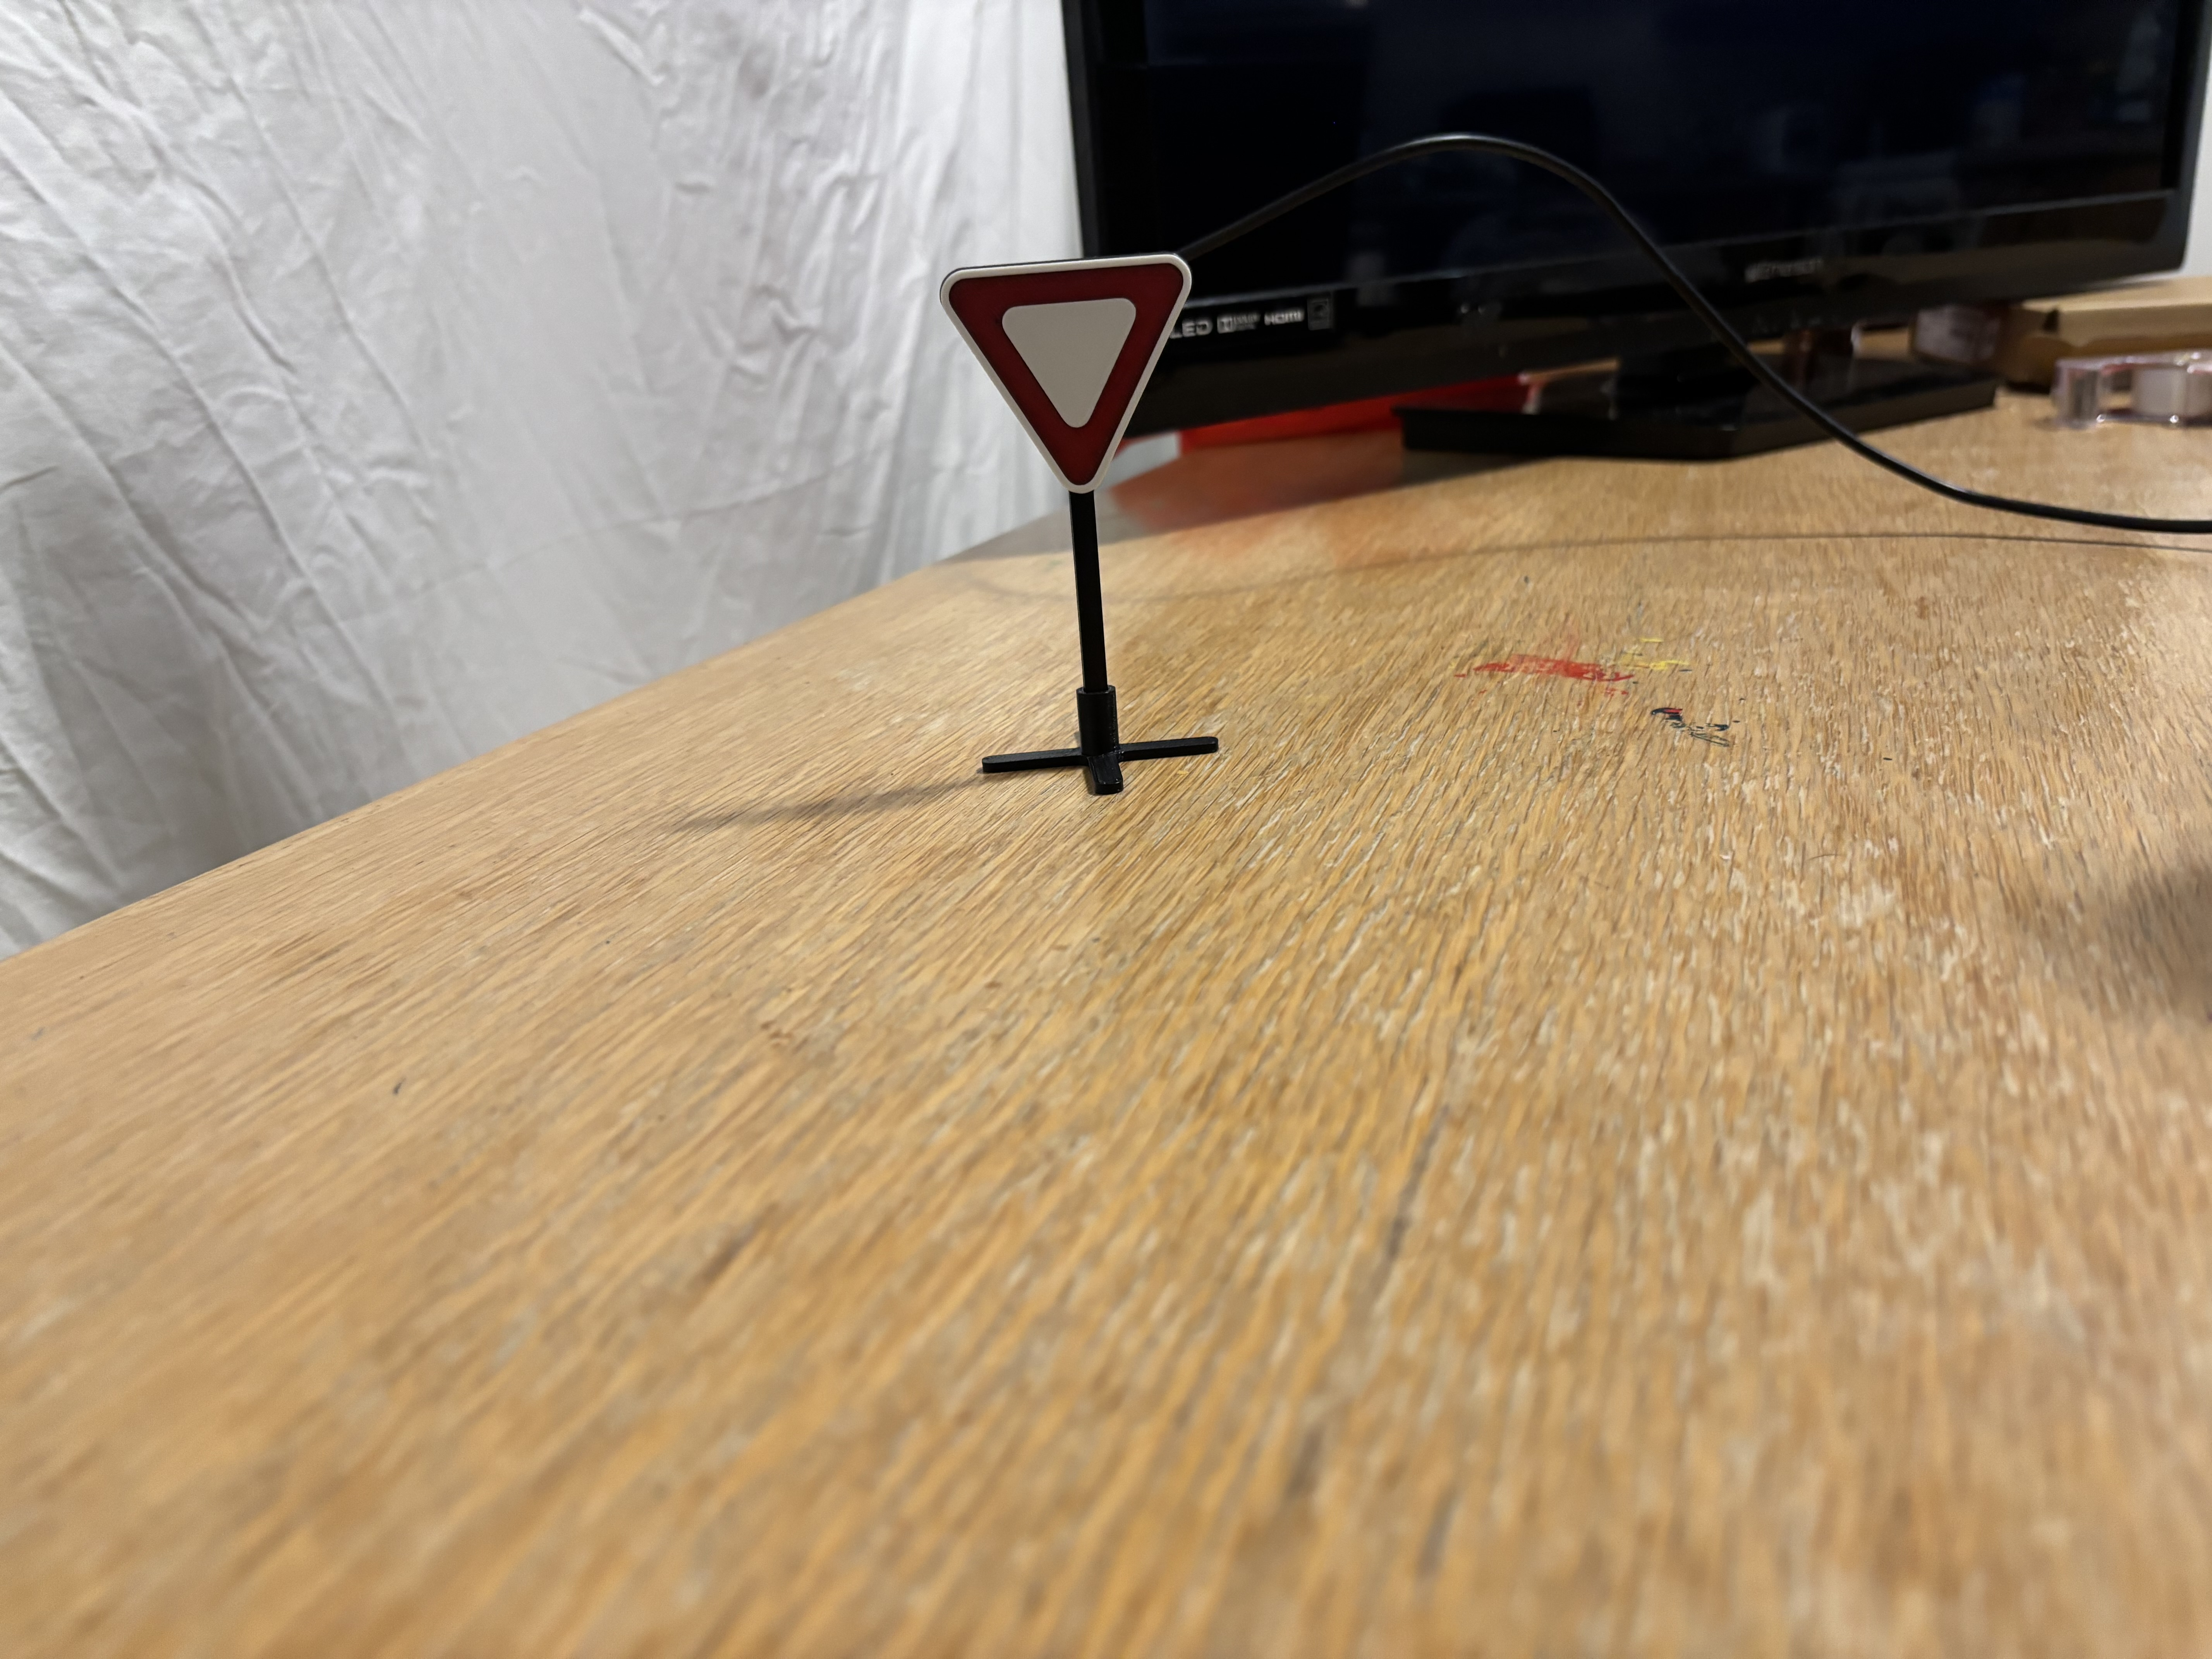sign_yield: (928, 268, 1179, 495)
